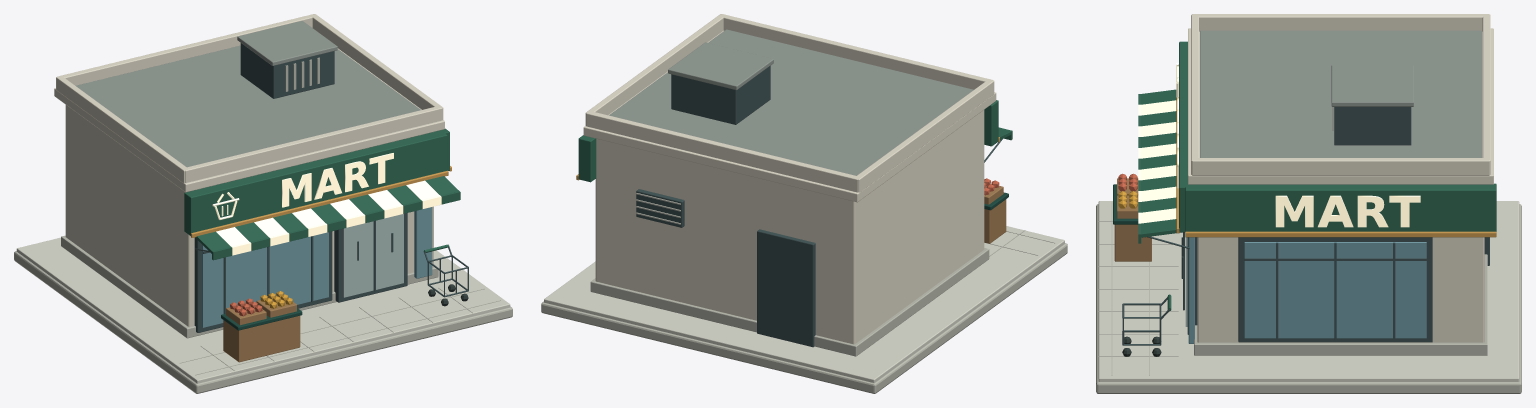
File: small-2x2-mart-01.glb
3 renders of one model, left to right at view 1: azimuth 30°, elevation 25°; view 2: azimuth 150°, elevation 25°; view 3: azimuth 270°, elevation 25°, orthographic. The views are drawn at different scales.
Visible parts, largest first — view 1: RoofDeck, Lot_Paving, ShopBody, FrontSign, ShopfrontGlass, Lot_2x2, Parapet, DoorGlass, RoofCap, HVACUnit, Parapet.001, HVACTop (+10 smaller); view 2: ShopBody, RoofDeck, Lot_Paving, Lot_2x2, RearServiceDoor, Parapet.001, BaseSkirt, RoofCap, Parapet, HVACUnit, HVACTop, Parapet.002 (+5 smaller); view 3: RoofDeck, Lot_Paving, SideWindowGlass, SideSign, ShopBody, Lot_2x2, Parapet.003, Parapet.002, BaseSkirt, RoofCap, HVACTop, SideWindowFrame (+23 smaller).
Part boxes in pixels (x1,y1,x2,y2): RoofDeck: (75,45,420,167); Lot_Paving: (16,237,510,383); ShopBody: (65,105,433,326); FrontSign: (184,130,447,235); ShopfrontGlass: (202,232,328,327); Lot_2x2: (14,251,512,393); Parapet: (183,106,442,182); DoorGlass: (343,214,403,297); RoofCap: (54,48,444,192); HVACUnit: (240,43,334,98); Parapet.001: (57,14,315,85); HVACTop: (237,21,337,65); ShopBody: (595,110,984,344); RoofDeck: (609,29,973,175); Lot_Paving: (544,226,1064,382); Lot_2x2: (541,243,1067,393); RearServiceDoor: (757,229,815,347); Parapet.001: (586,111,859,192); BaseSkirt: (590,248,989,356); RoofCap: (583,30,996,202); Parapet: (720,14,992,89); HVACUnit: (671,66,770,124); HVACTop: (668,42,773,90); Parapet.002: (855,80,994,192); RoofDeck: (1200,30,1481,157); Lot_Paving: (1098,201,1519,381); SideWindowGlass: (1244,242,1426,338); SideSign: (1185,183,1496,231); ShopBody: (1197,237,1484,342); Lot_2x2: (1096,204,1521,393); Parapet.003: (1192,158,1489,175); Parapet.002: (1192,14,1489,31); BaseSkirt: (1194,254,1487,355); RoofCap: (1188,28,1493,184); HVACTop: (1331,65,1413,106); SideWindowFrame: (1238,237,1432,342).
Bounding box in the file's own units: 8 × 5.19 × 8.
